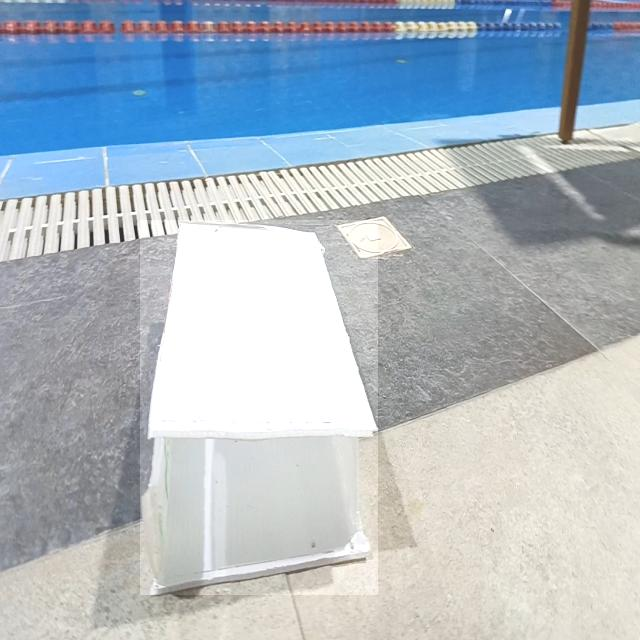Cuboid: (140, 220, 378, 595)
